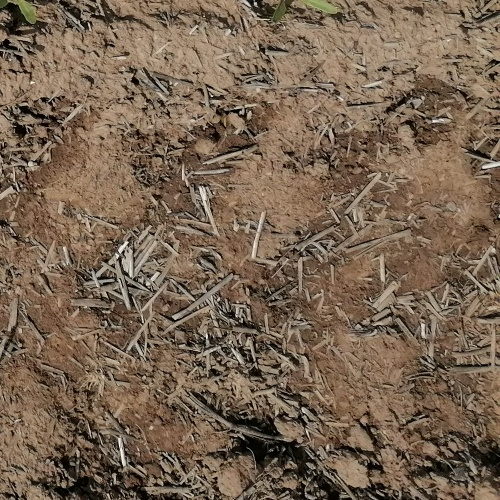beet: (271, 0, 339, 20), (0, 0, 36, 23)
